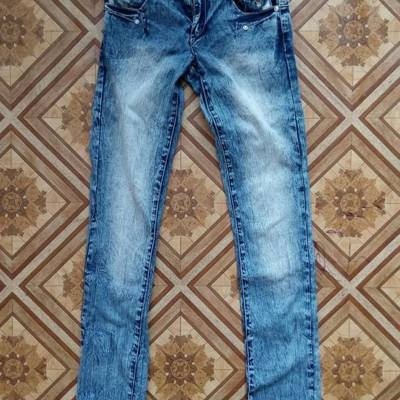Pants: (62, 5, 337, 397)
